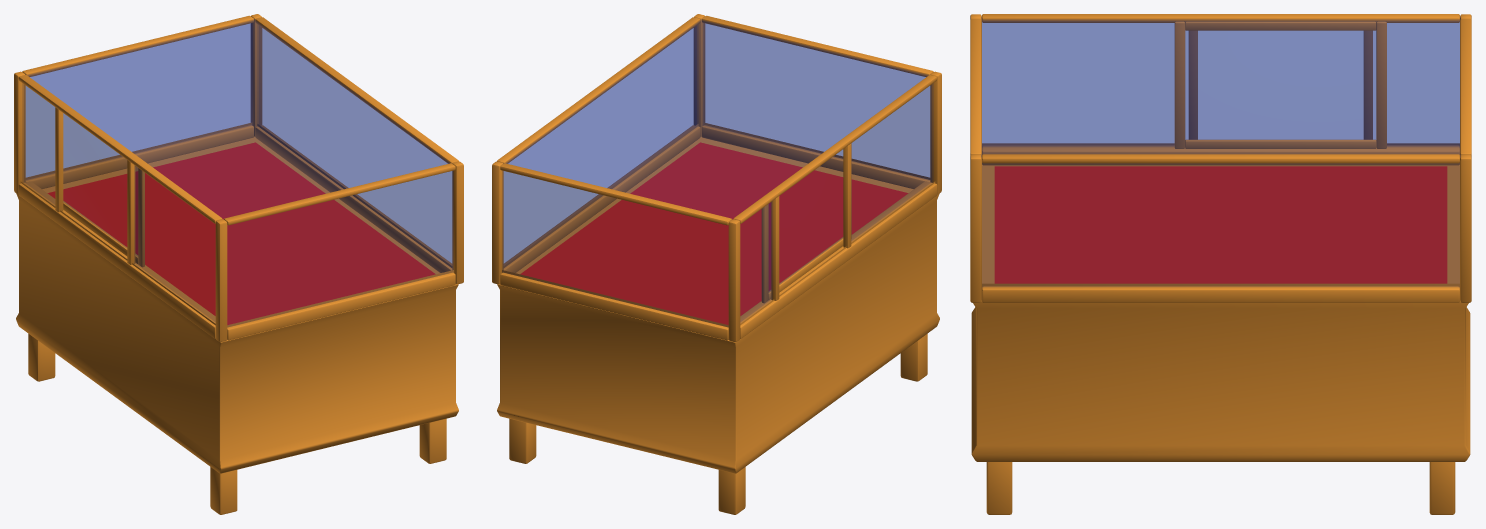
File: display_case_small.glb
3 views of the same model, side by side, from view 1: azimuth 30°, elevation 25°; view 2: azimuth 150°, elevation 25°; view 3: azimuth 270°, elevation 25° (orthographic). The views are drawn at different scales.
Parts seen in each view (by area): view 1: Glass, Base, Cloth, Frame, Glass Panel; view 2: Glass, Base, Cloth, Frame, Glass Panel; view 3: Glass, Base, Cloth, Frame, Glass Panel.
Part boxes in pixels (<box>): Glass: <box>23,19,453,326</box>; Base: <box>16,122,458,473</box>; Cloth: <box>47,142,435,324</box>; Frame: <box>14,14,463,514</box>; Glass Panel: <box>63,113,144,267</box>; Glass: <box>502,19,932,326</box>; Base: <box>497,122,939,473</box>; Cloth: <box>520,142,908,324</box>; Frame: <box>492,14,941,514</box>; Glass Panel: <box>761,143,851,303</box>; Glass: <box>981,17,1460,286</box>; Base: <box>971,143,1470,461</box>; Cloth: <box>994,166,1447,283</box>; Frame: <box>970,14,1471,514</box>; Glass Panel: <box>1174,21,1386,148</box>.
Bounding box in the file's own units: 1.47 × 1.72 × 2.15.
